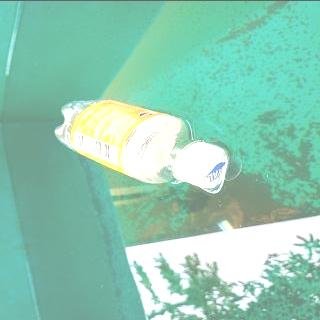bottle: (52, 98, 230, 190)
